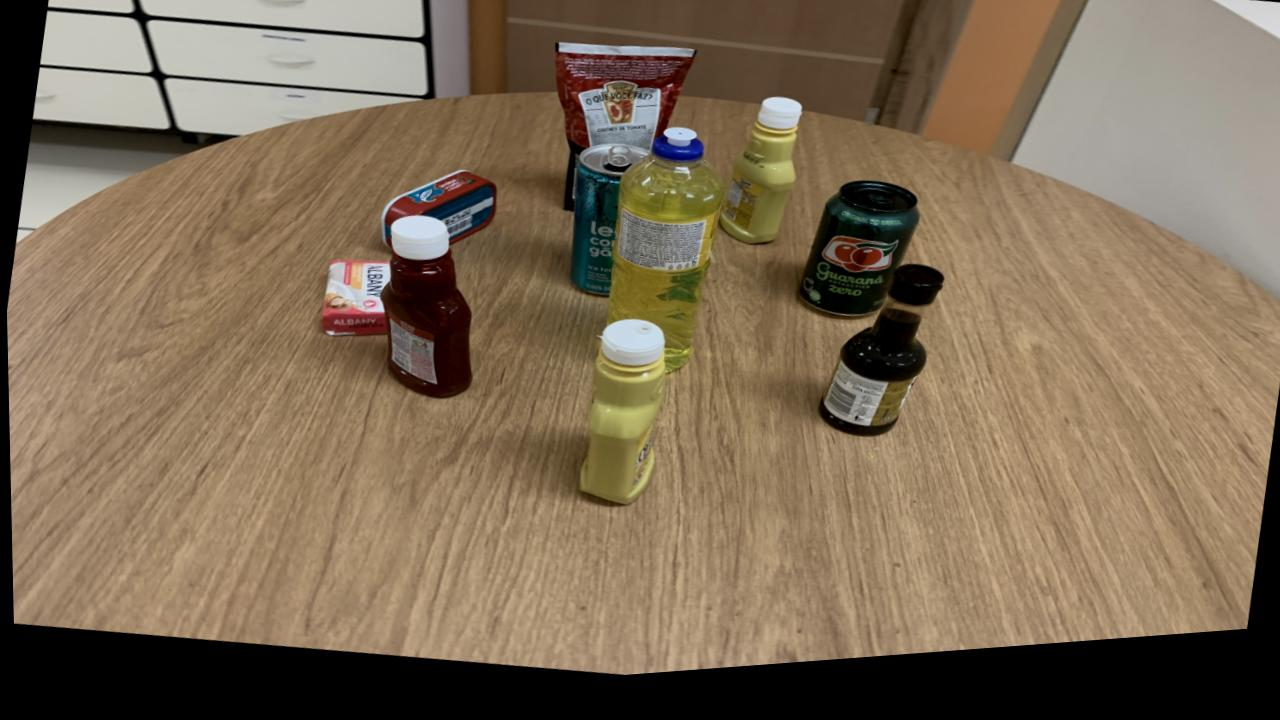Detergent-Cleanup_Items: (605, 138, 724, 382)
English_Sauce-Pantry_Items: (816, 277, 942, 449)
Guarana_Can-Drinks: (797, 193, 918, 330)
Ketchup-Pantry_Items: (378, 221, 470, 404)
Mustard-Pantry_Items: (577, 328, 665, 514), (719, 108, 802, 255)
Soap-Cleanup_Items: (319, 265, 390, 341)
Tea-Drinks: (568, 152, 649, 303)
Tomato_Sauce-Pantry_Items: (554, 51, 695, 160)
Tuna_Can-Pantry_Items: (379, 177, 496, 249)
